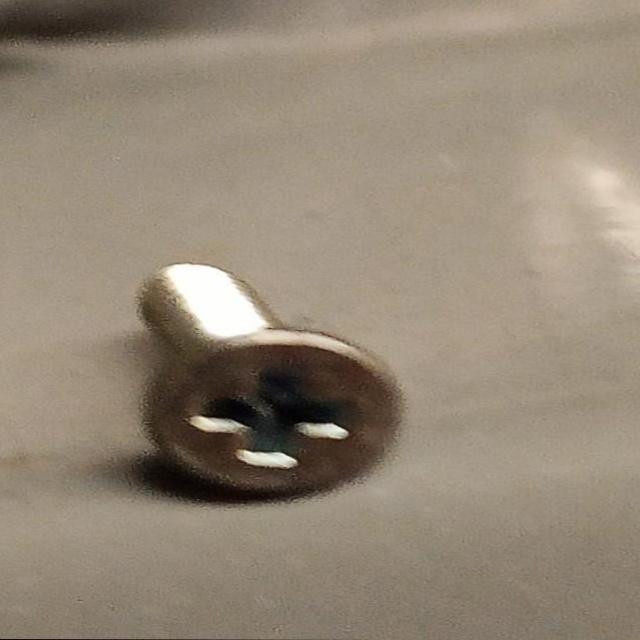phillips: (136, 323, 418, 502)
